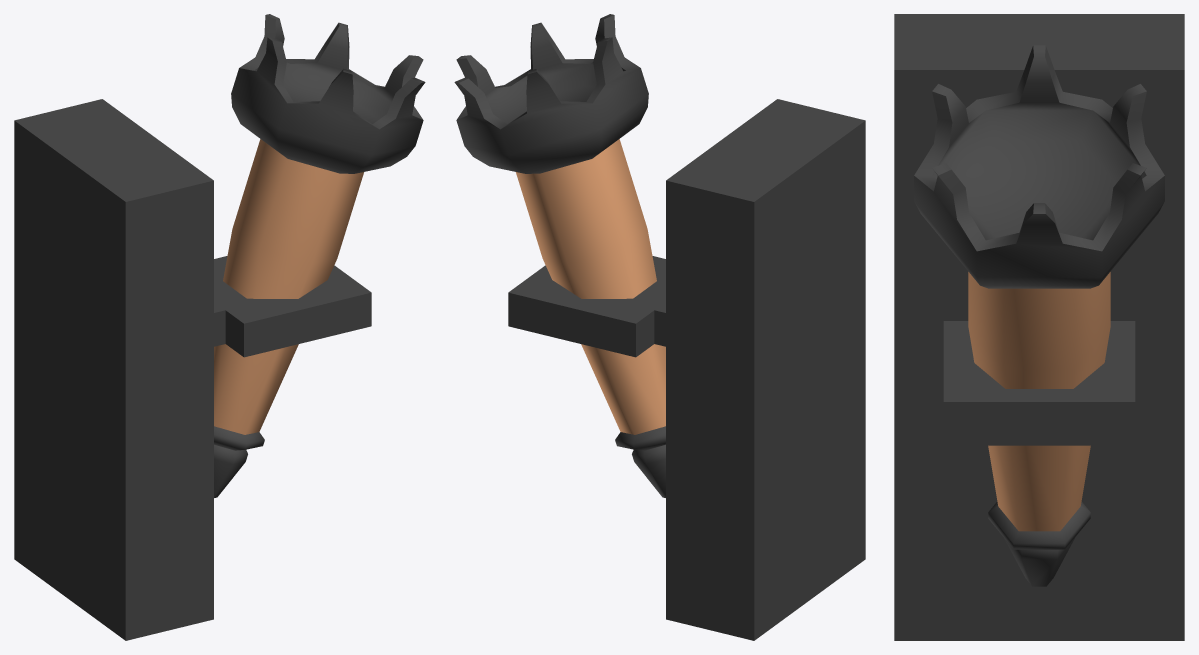
The model's file is Torch.fbx.
3 renders of one model, left to right at view 1: azimuth 30°, elevation 25°; view 2: azimuth 150°, elevation 25°; view 3: azimuth 270°, elevation 25°, orthographic. The views are drawn at different scales.
Parts seen in each view (by area): view 1: Cube, Cylinder; view 2: Cube, Cylinder; view 3: Cube, Cylinder.
Part boxes in pixels (bbox=[...]): Cube: bbox=[14, 99, 371, 640]; Cylinder: bbox=[214, 14, 425, 497]; Cube: bbox=[508, 99, 865, 640]; Cylinder: bbox=[454, 14, 665, 497]; Cube: bbox=[894, 14, 1184, 640]; Cylinder: bbox=[914, 45, 1164, 586].
Size of the model in its own units: 77.77 by 108 by 42.77.
